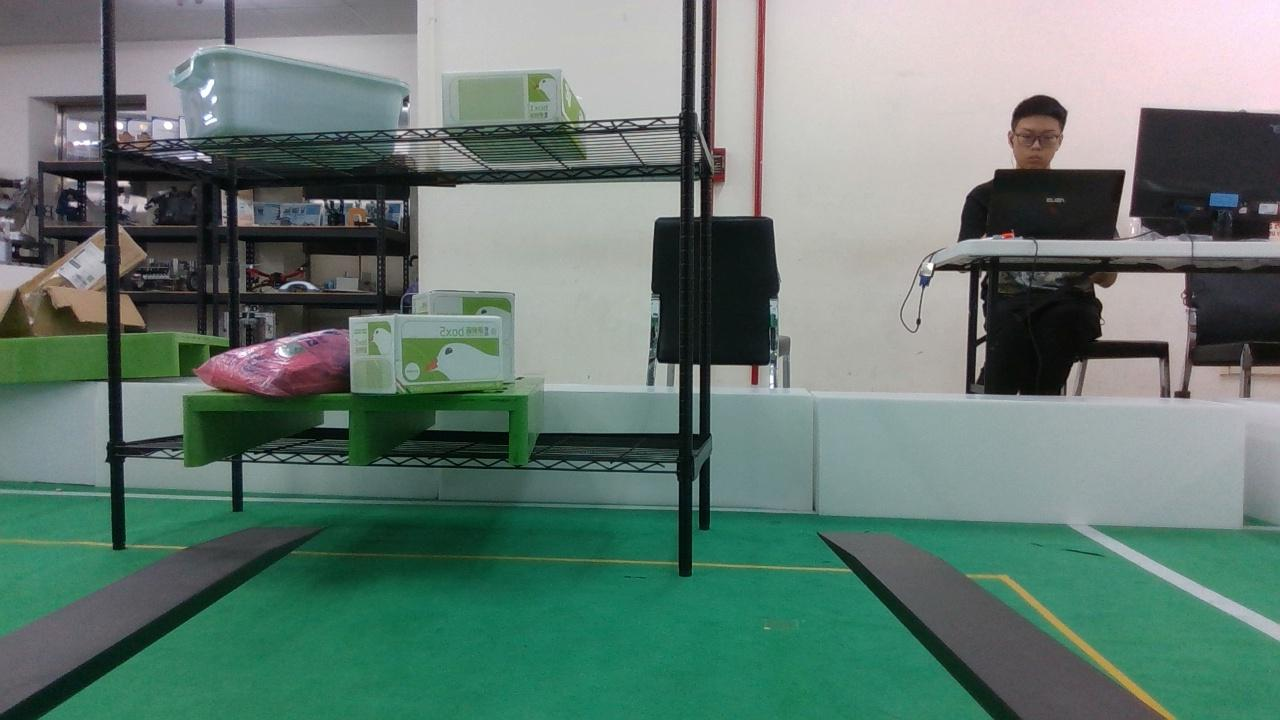Pallet: (182, 395, 528, 465)
